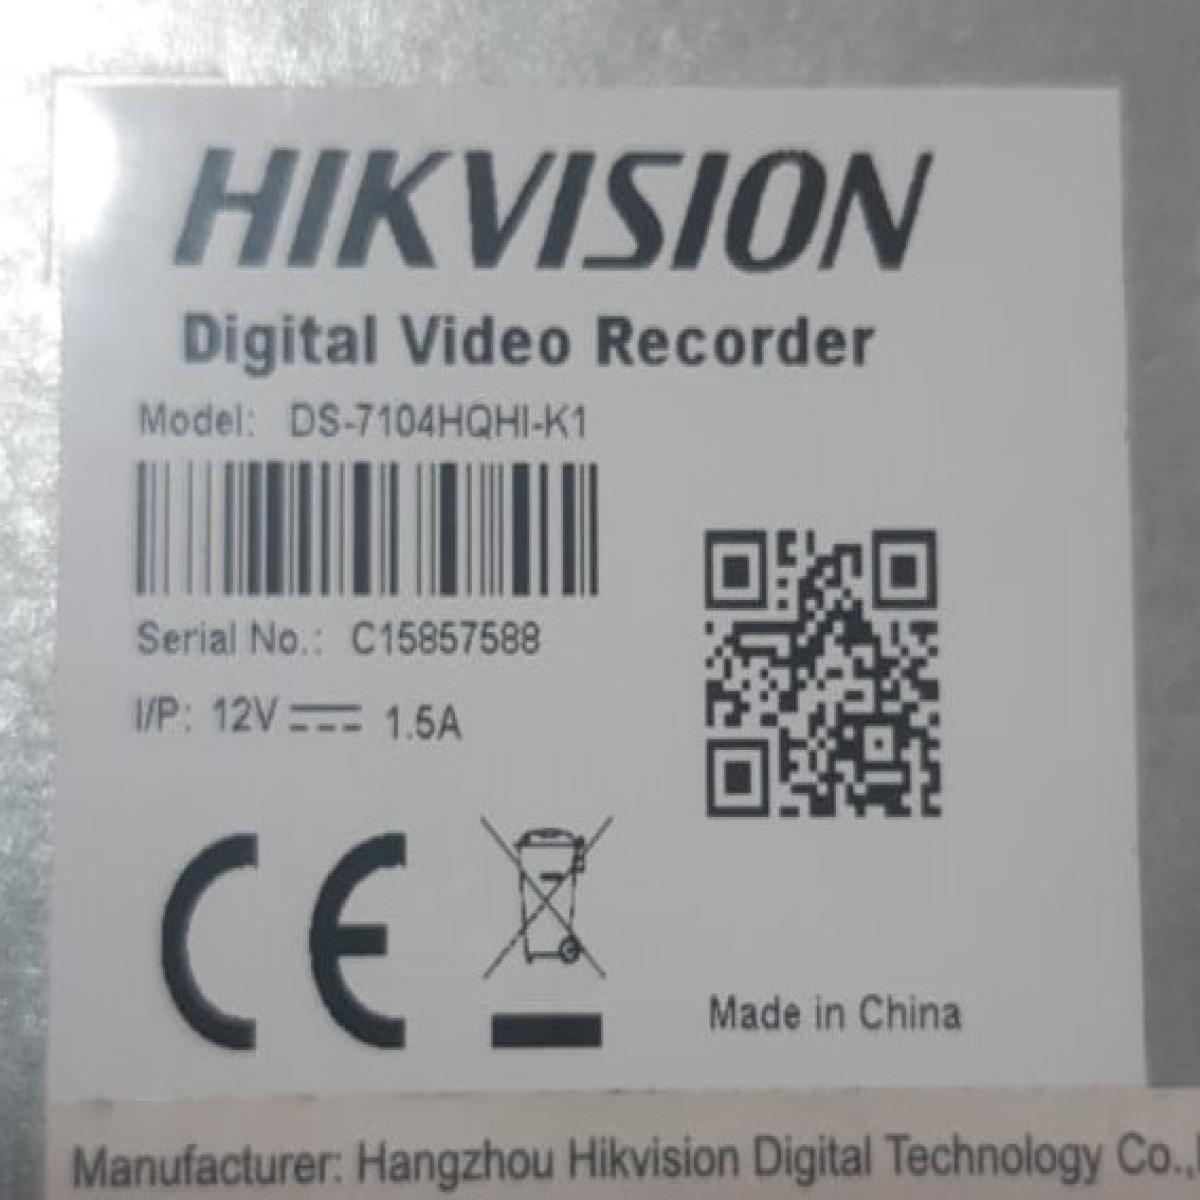Barcode: (109, 443, 626, 618)
Label: (52, 84, 1145, 1098)
